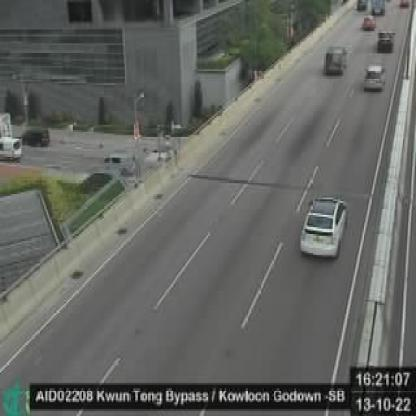Car: (298, 196, 350, 260), (323, 44, 348, 75), (364, 64, 386, 90), (376, 29, 396, 53), (362, 16, 376, 33), (356, 1, 368, 11)
